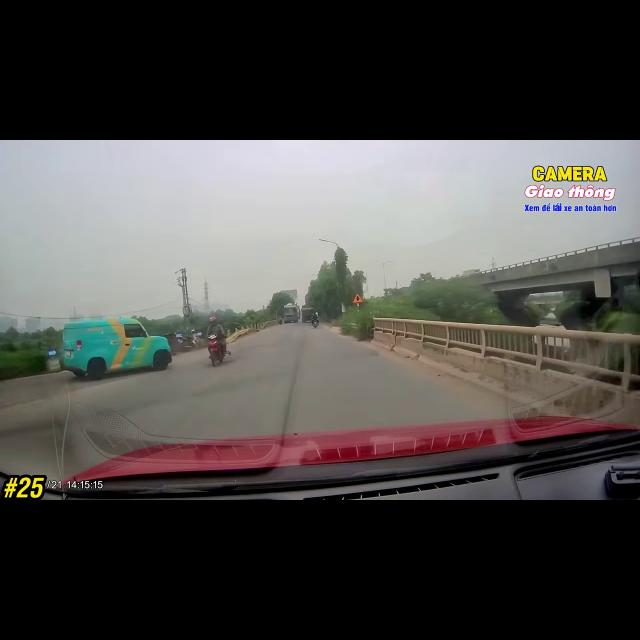car: (63, 318, 171, 379)
motorcycle: (208, 335, 229, 366), (312, 319, 318, 327)
truck: (283, 303, 299, 323), (301, 307, 315, 322)
